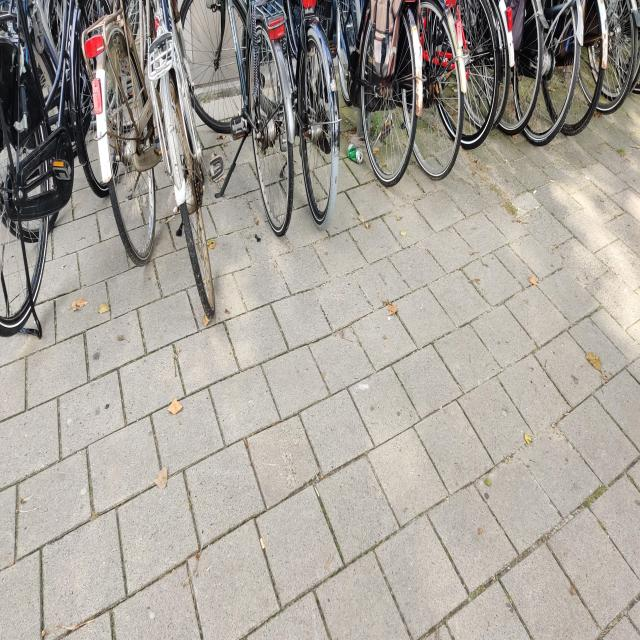litter: (350, 139, 362, 167)
